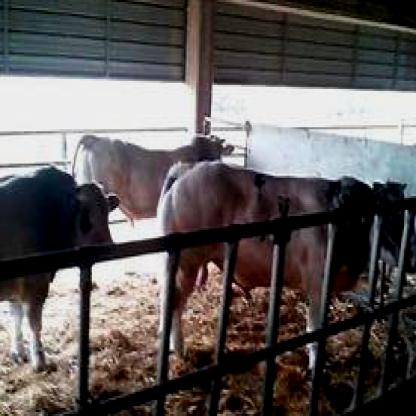cow: (153, 161, 415, 377), (2, 163, 121, 380), (69, 123, 235, 228)
